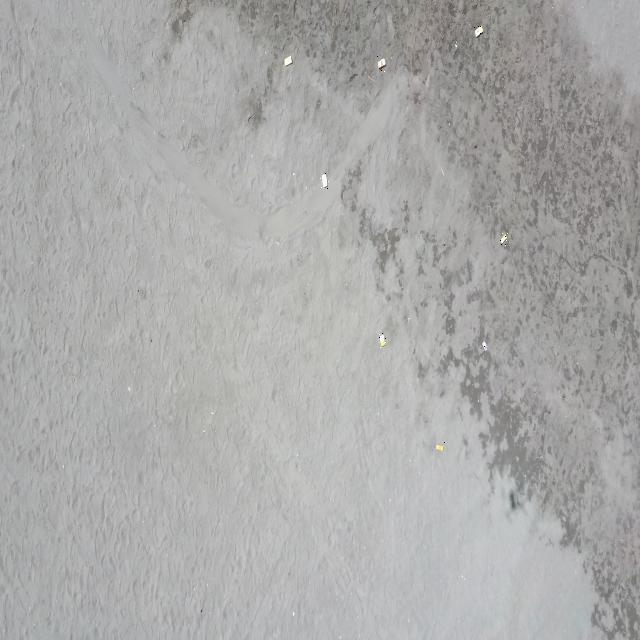retort-pouch: (377, 56, 387, 72), (283, 54, 293, 70), (320, 172, 329, 189), (474, 24, 484, 39), (500, 232, 508, 247), (379, 333, 386, 348), (436, 442, 445, 453), (482, 340, 488, 352)
